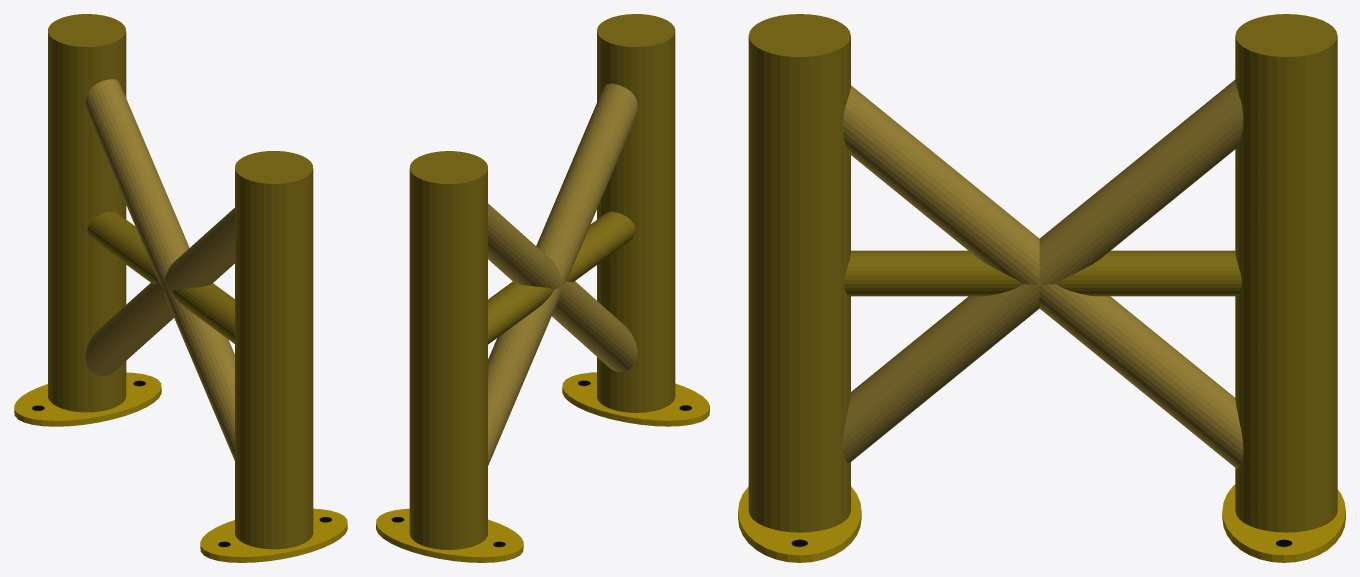
File: ConveyorSupport.fbx
3 views of the same model, side by side, from view 1: azimuth 30°, elevation 25°; view 2: azimuth 150°, elevation 25°; view 3: azimuth 270°, elevation 25° (orthographic). The views are drawn at different scales.
Parts seen in each view (by area): view 1: Cylinder.001; view 2: Cylinder.001; view 3: Cylinder.001.
Part boxes in pixels (bbox=[...]): Cylinder.001: bbox=[14, 14, 347, 562]; Cylinder.001: bbox=[376, 14, 709, 562]; Cylinder.001: bbox=[738, 14, 1345, 562].
Size of the model in its own units: 200 by 507 by 579.
